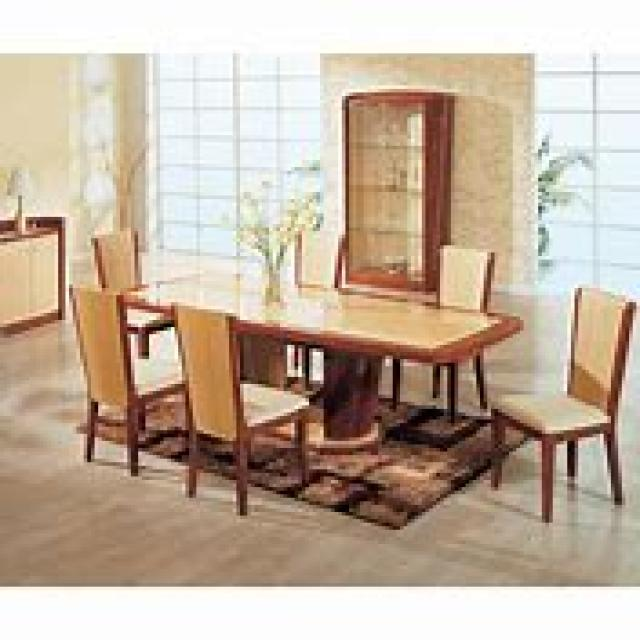chair: (488, 284, 636, 522), (171, 298, 309, 516), (66, 281, 189, 476), (389, 242, 495, 419), (87, 224, 175, 356)
table: (112, 267, 524, 505)
